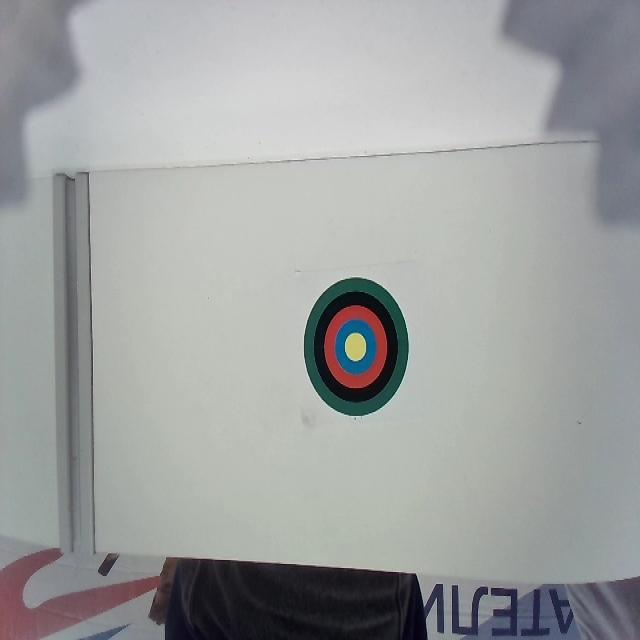cogn: (304, 276, 409, 417)
